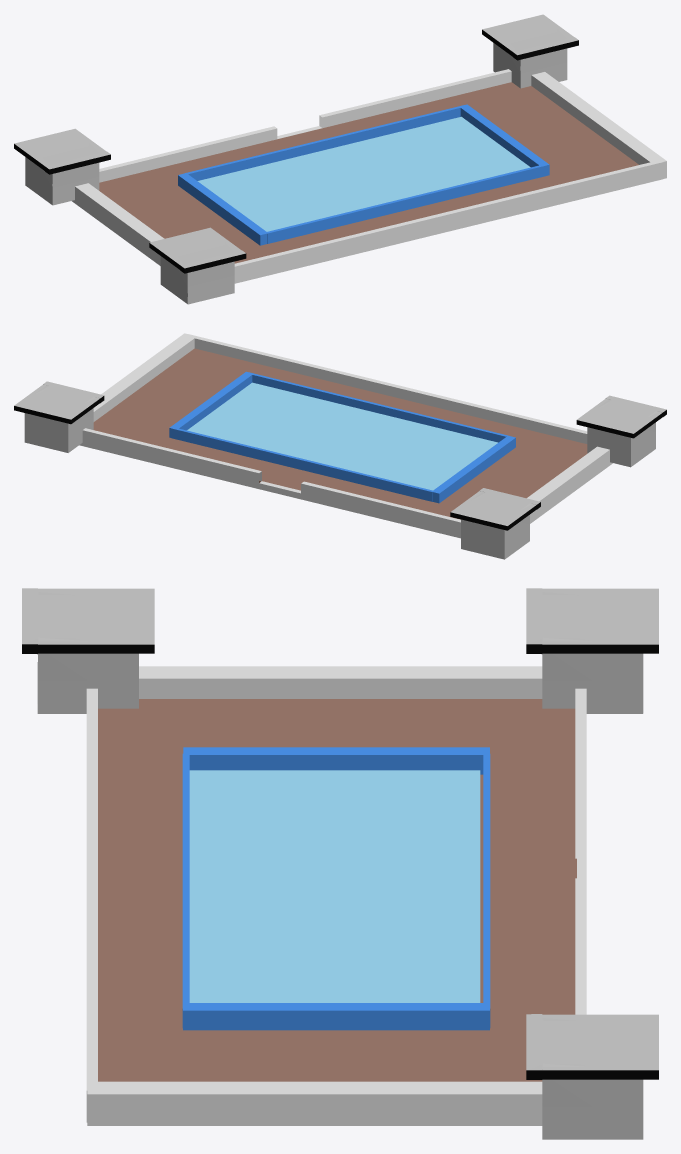
File: swimmingPool.FBX
3 renders of one model, top to bottom at view 1: azimuth 30°, elevation 25°; view 2: azimuth 150°, elevation 25°; view 3: azimuth 270°, elevation 25°, orthographic. The views are drawn at different scales.
Parts seen in each view (by area): view 1: Plane.25; view 2: Plane.25; view 3: Plane.25.
Part boxes in pixels (left/top/right/bottom): Plane.25: left=14, top=14, right=666, bottom=304; Plane.25: left=14, top=333, right=666, bottom=559; Plane.25: left=22, top=588, right=658, bottom=1139.
Size of the model in its own units: 22.63 by 12.63 by 1.82.
